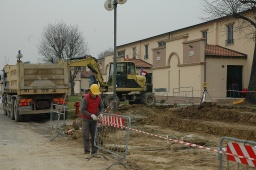obstacle: (97, 112, 134, 159), (216, 135, 256, 170), (49, 103, 68, 140)
person: (80, 84, 103, 154)
truck: (1, 62, 73, 119)
